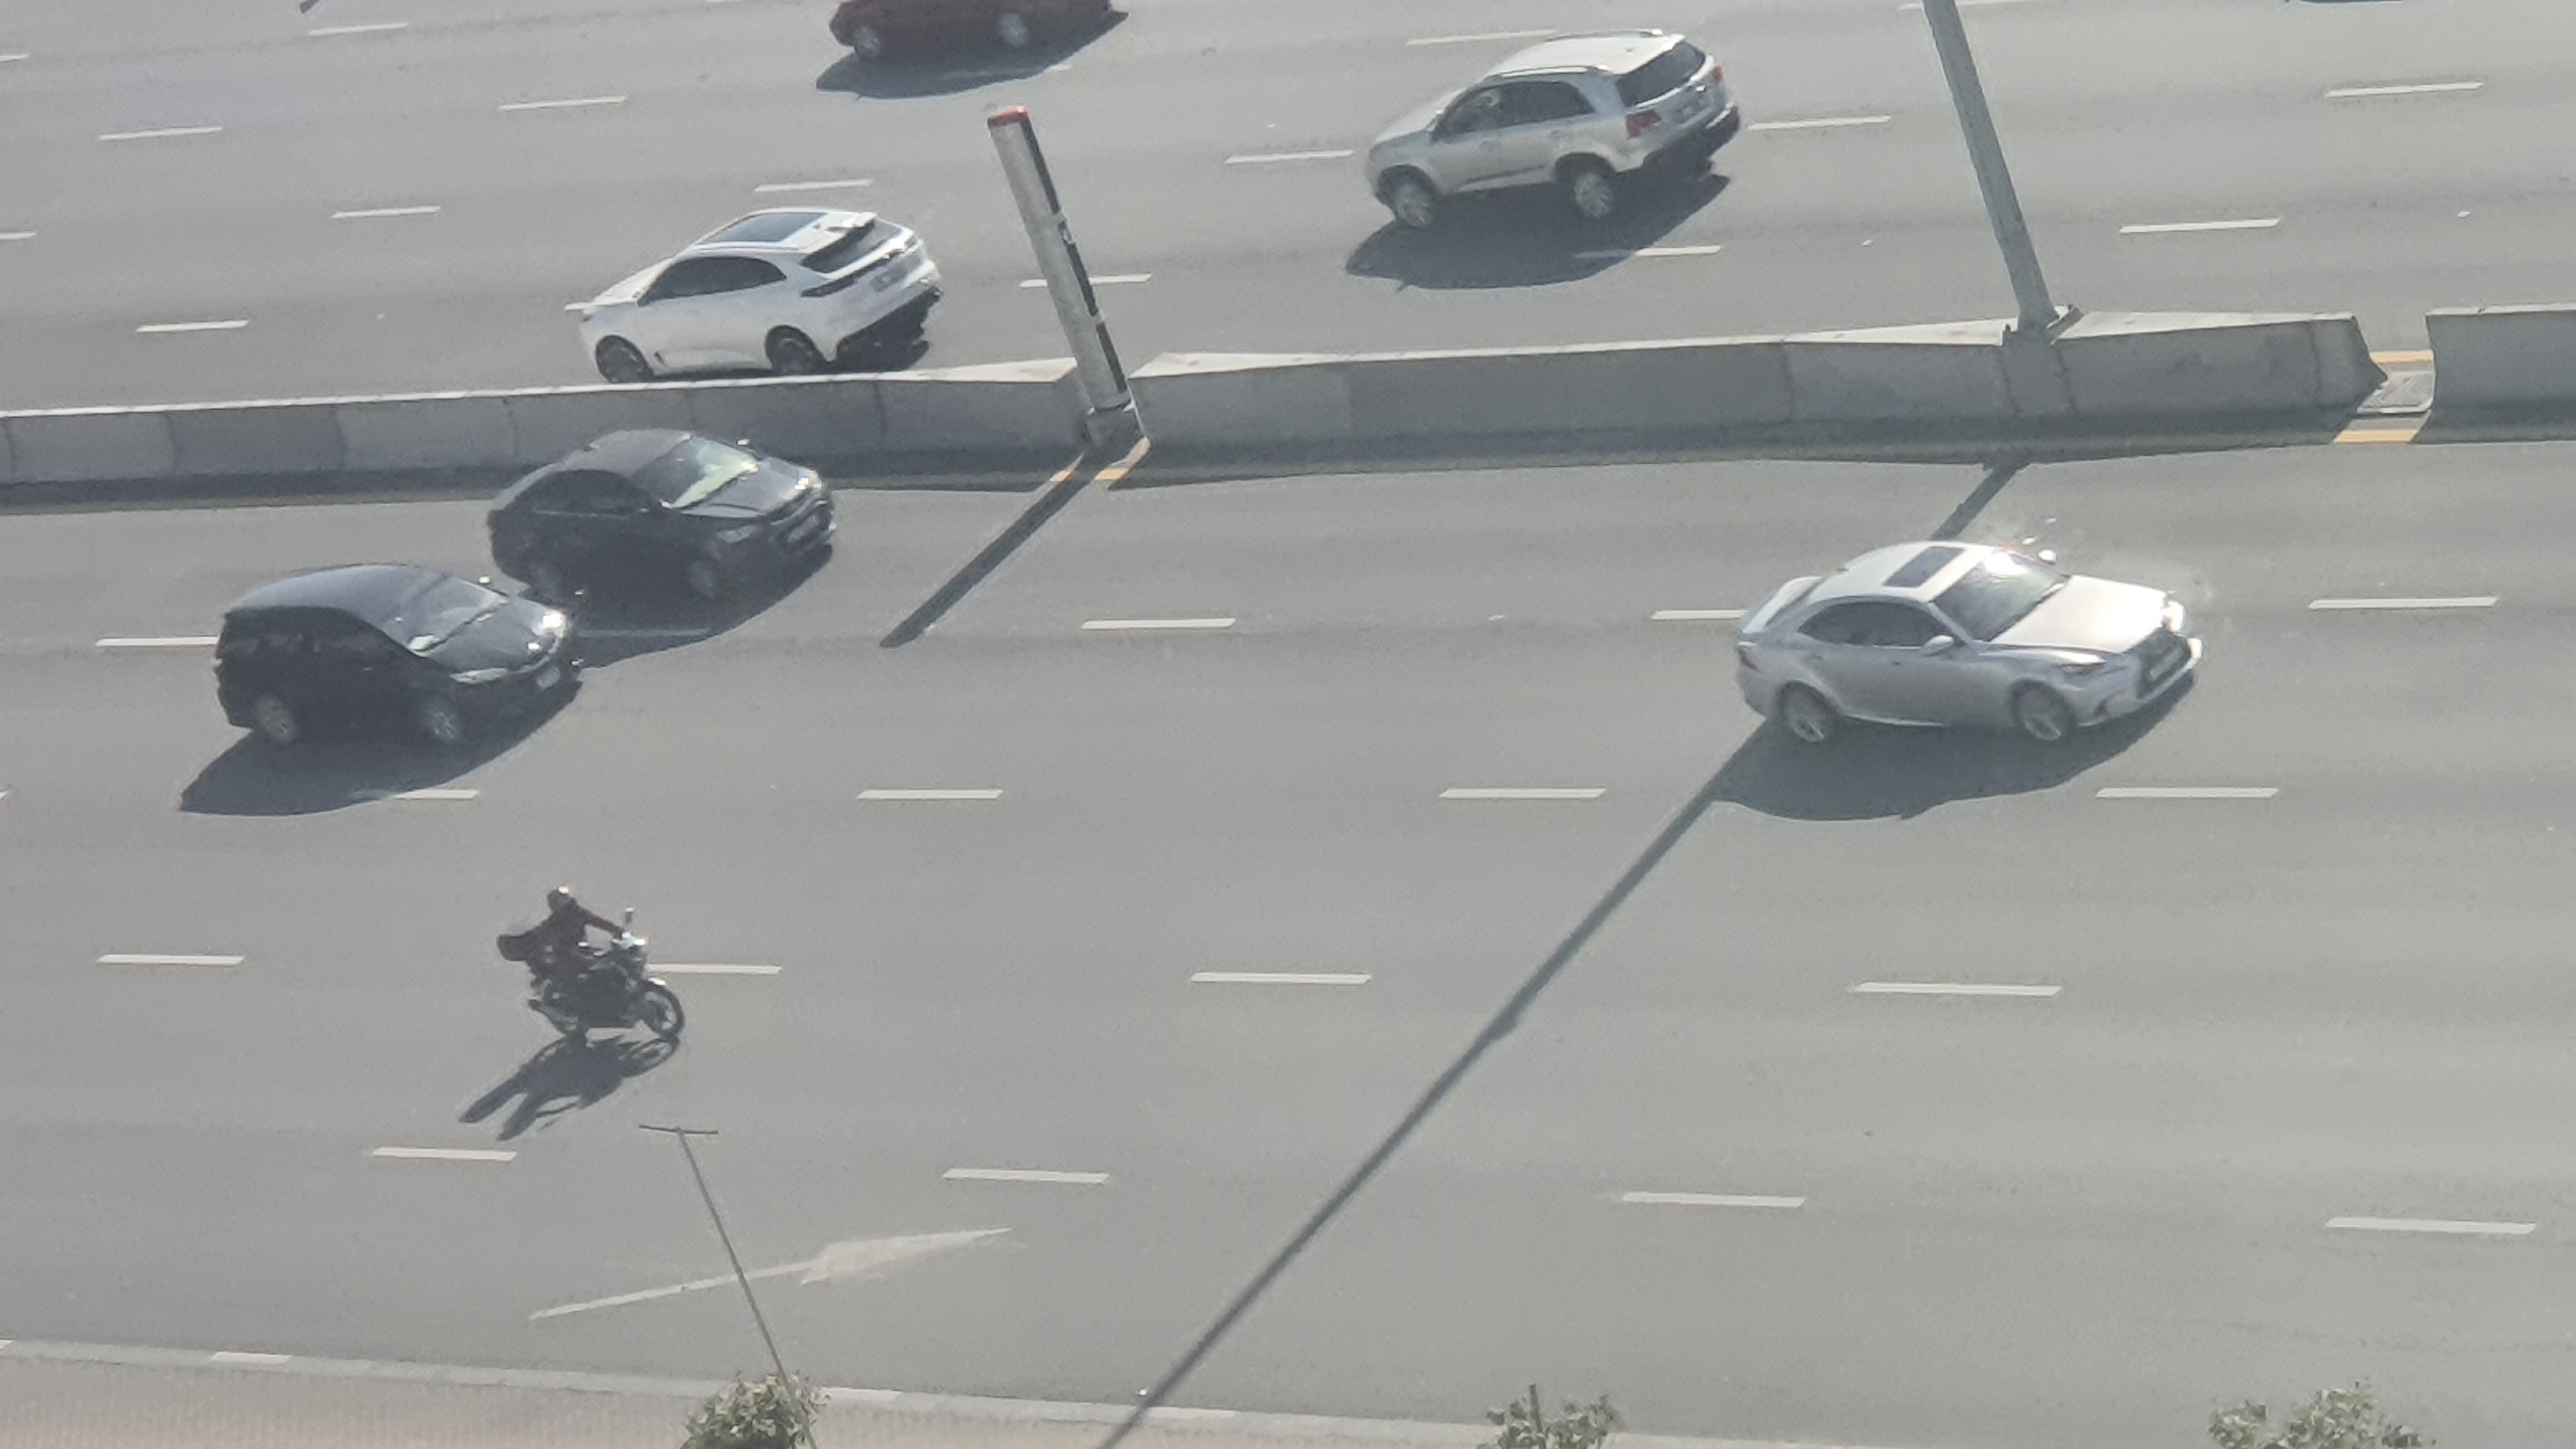NotSunroof: (209, 561, 587, 754), (478, 428, 840, 602)
Sunroof: (1723, 522, 2208, 766)
